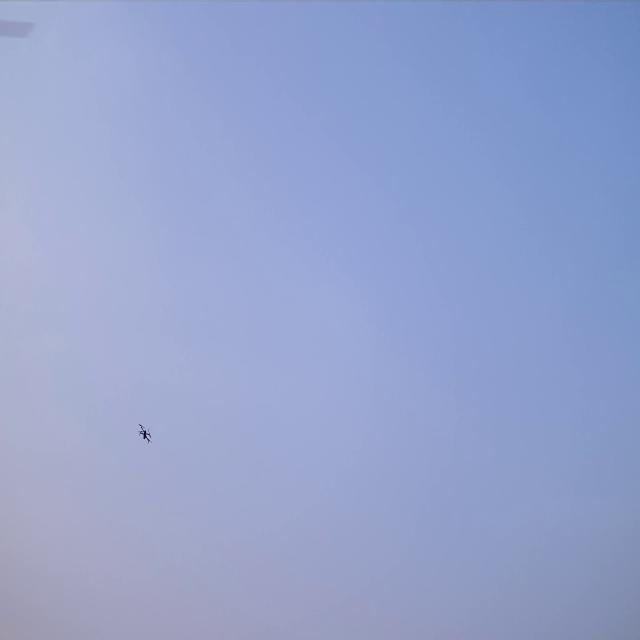UAV: (138, 423, 152, 445)
